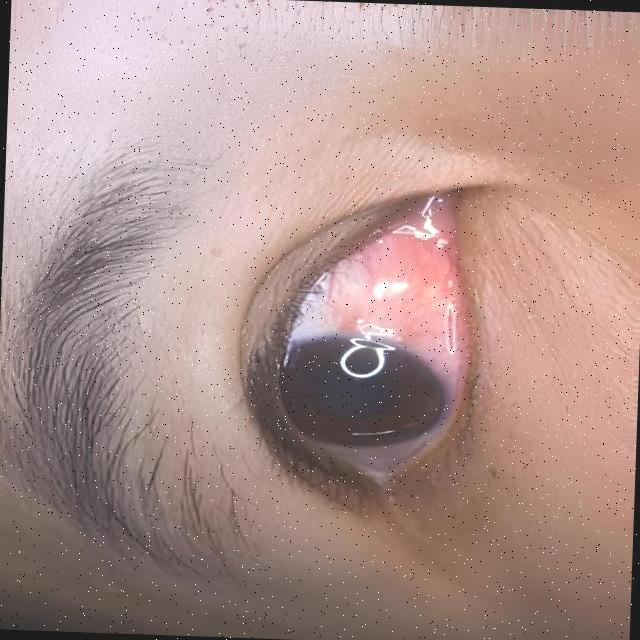Pterygium: (293, 216, 466, 368)
